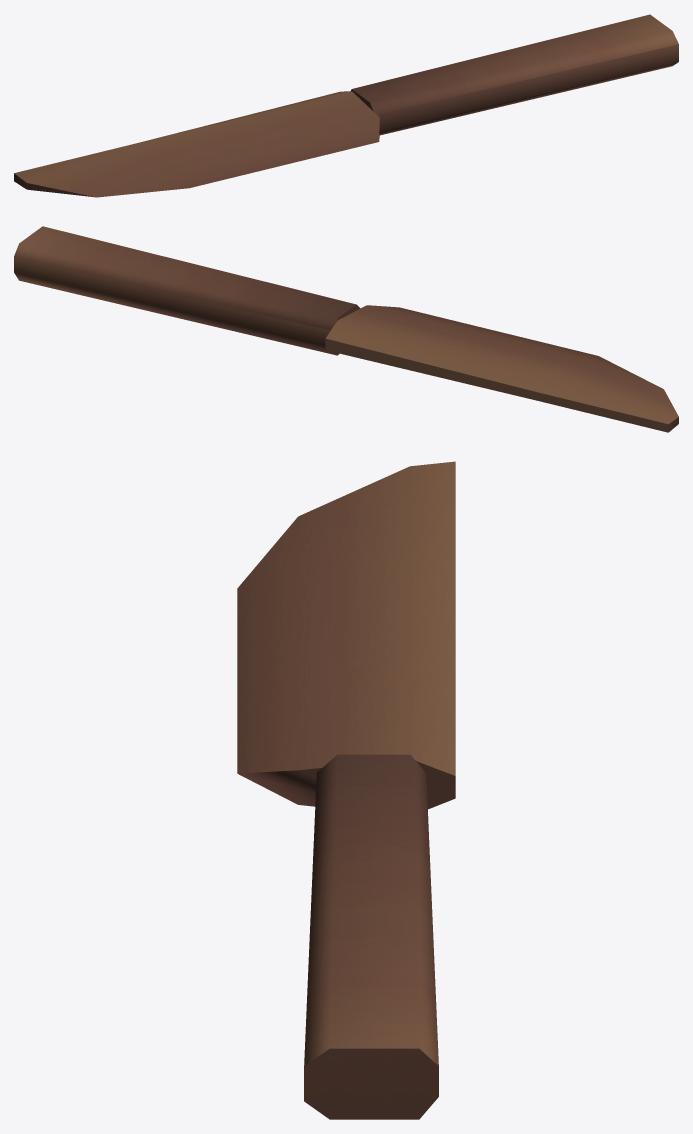
Rendered from knife_cuttlery_wood.fbx.
3 views of the same model, one above another, from view 1: azimuth 30°, elevation 25°; view 2: azimuth 150°, elevation 25°; view 3: azimuth 270°, elevation 25° (orthographic). The views are drawn at different scales.
Parts seen in each view (by area): view 1: knife_cuttlery_wood; view 2: knife_cuttlery_wood; view 3: knife_cuttlery_wood.
Part boxes in pixels (box(x1,y1,x2,y2)): knife_cuttlery_wood: box(14, 14, 678, 197); knife_cuttlery_wood: box(14, 226, 678, 432); knife_cuttlery_wood: box(237, 461, 455, 1119).
Size of the model in its own units: 43.25 by 2.35 by 6.53.
